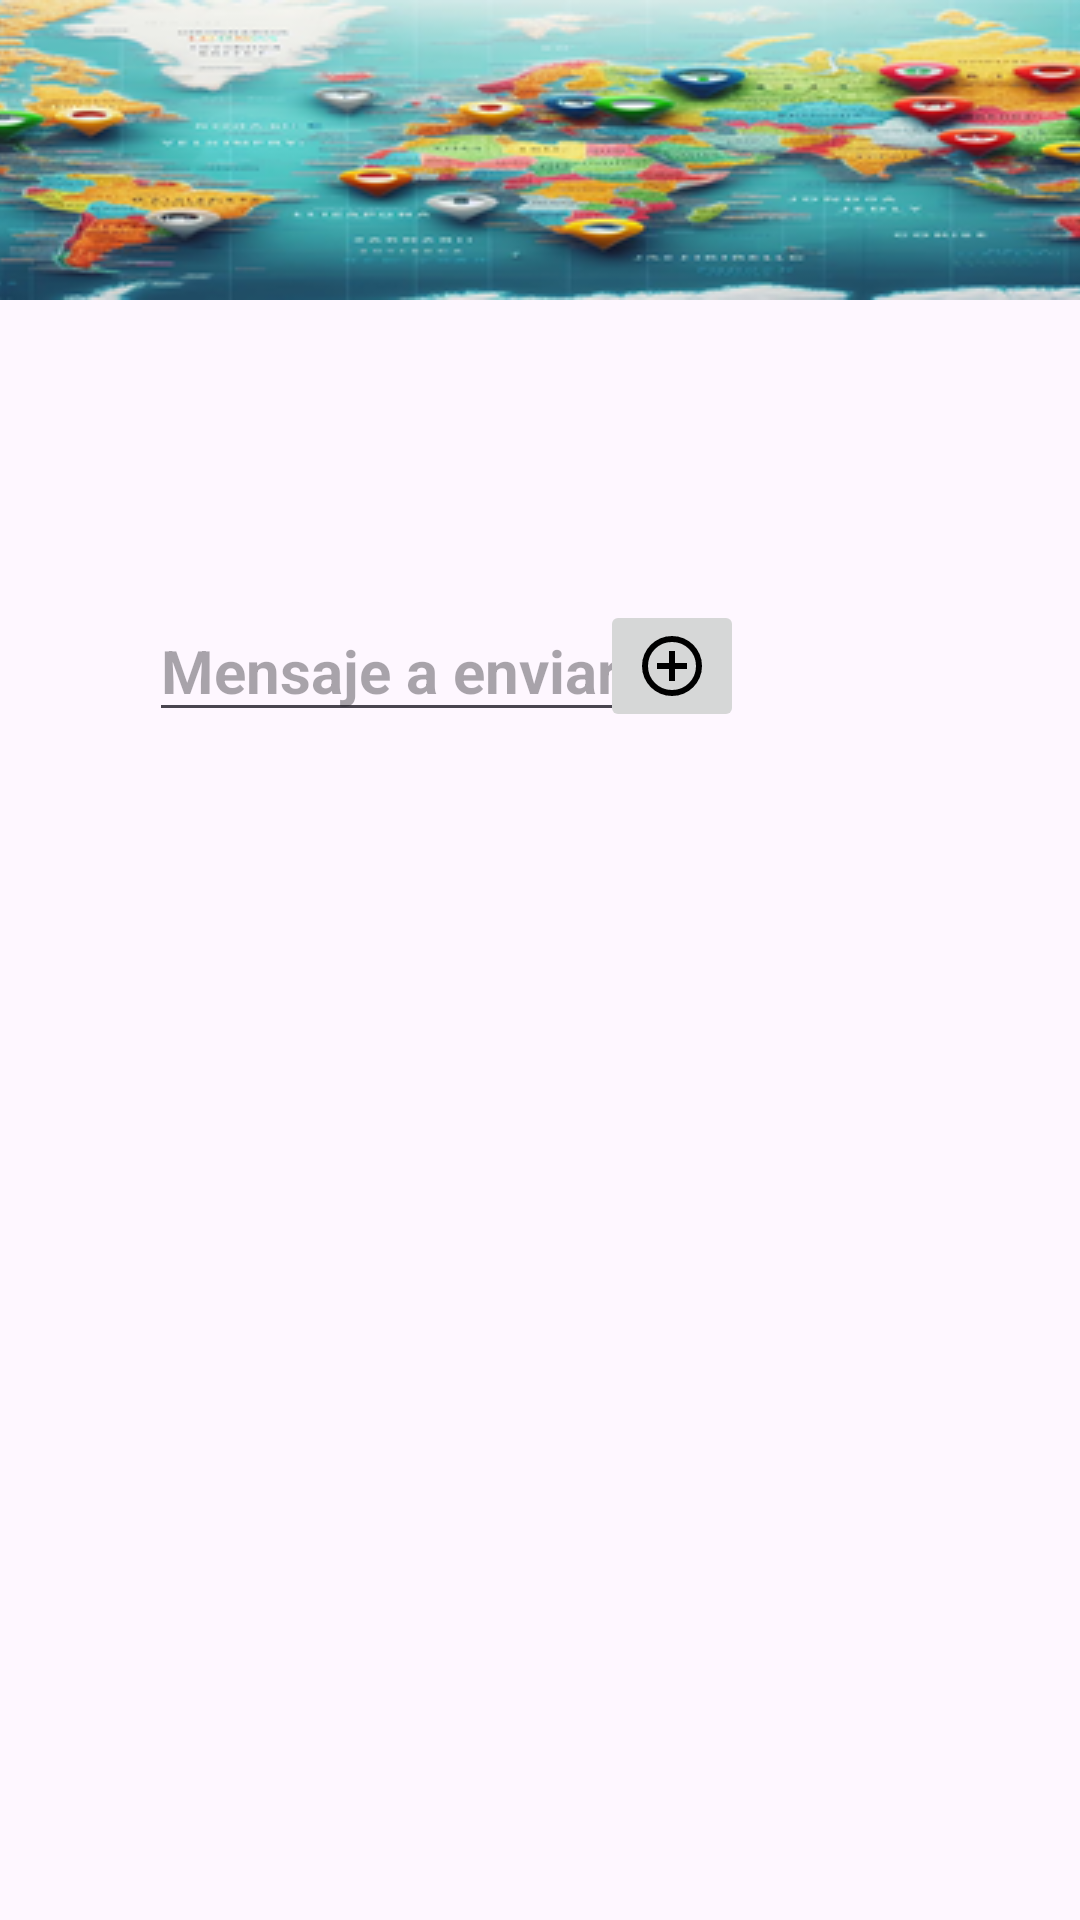

Named icons in this screenshot (1080 x 1920) and their bounding boxes, (x1, y1, x2, y2):
add circle: (600, 618, 732, 714)
